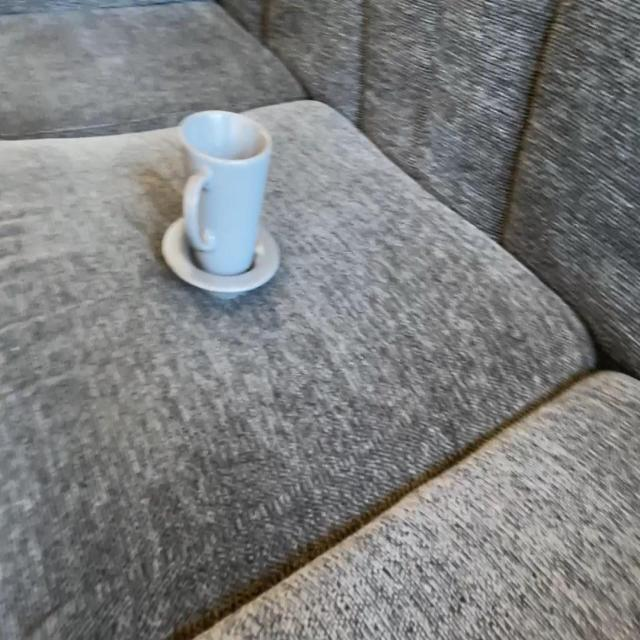cup: (176, 109, 271, 279)
